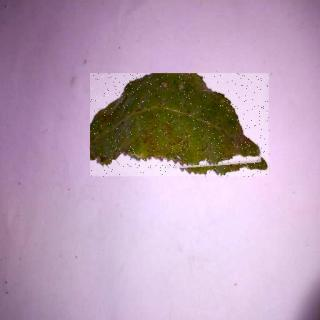Bird Eye Spot: (91, 75, 271, 179)
